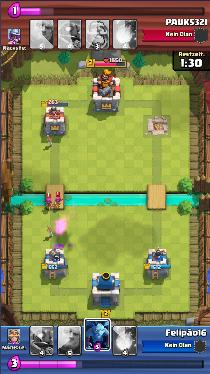EMiner: (42, 198, 53, 209), (55, 196, 63, 208)
